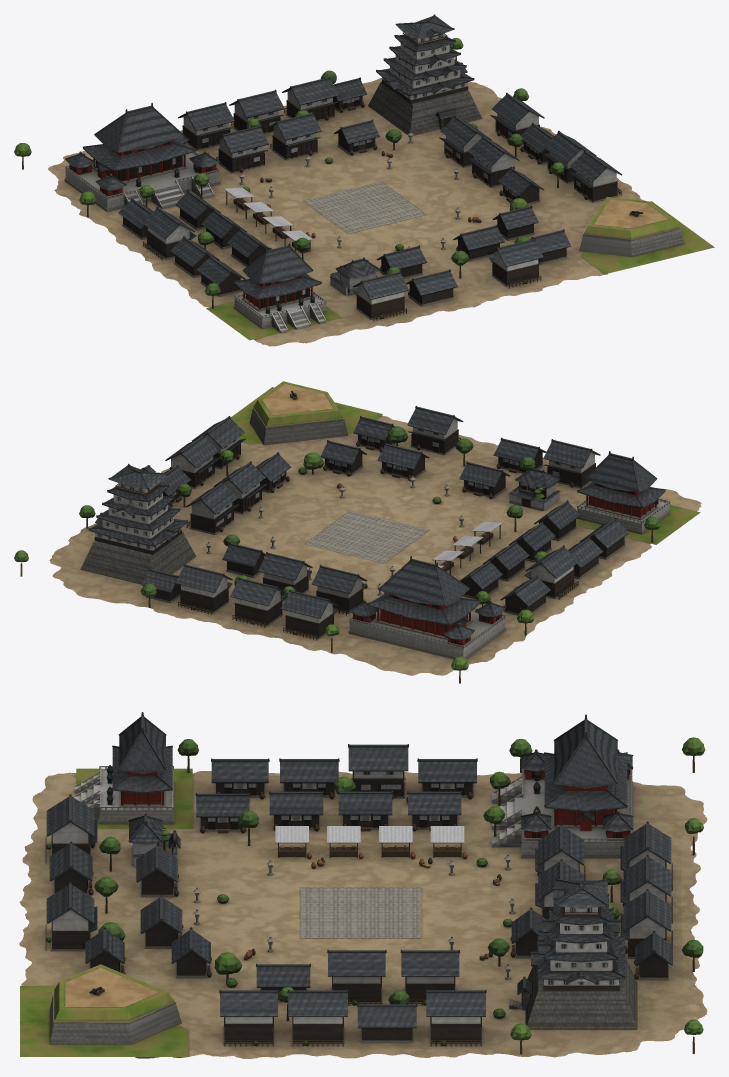
Rendered from gunpowder-town-big-b-japan.glb.
The picture shows the model from 3 angles, top to bottom: view 1: azimuth 30°, elevation 25°; view 2: azimuth 150°, elevation 25°; view 3: azimuth 270°, elevation 25°; orthographic projection. The views are drawn at different scales.
Parts seen in each view (by area): view 1: LOD0; view 2: LOD0; view 3: LOD0.
Part boxes in pixels (<box>): LOD0: <box>14,14,714,346</box>; LOD0: <box>14,381,701,683</box>; LOD0: <box>19,712,707,1058</box>.
Size of what is drawn, in the model's own units: 8.05 by 1.61 by 8.12.
Materials: 3 (3 with a texture image).
